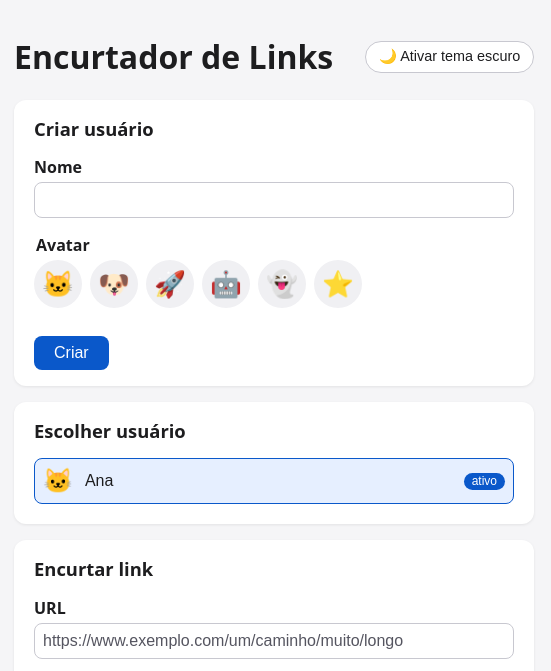
Test: tela de encurtar link › URL inválida mostra o erro com role=alert e não cria link
Check: the text "Ana" is shown, box [85,472,113,489]
Step 1. Type "www.exemplo.com" into the field labelled "URL" → point(274, 641), box [34,623,514,659]
(page scrolled)
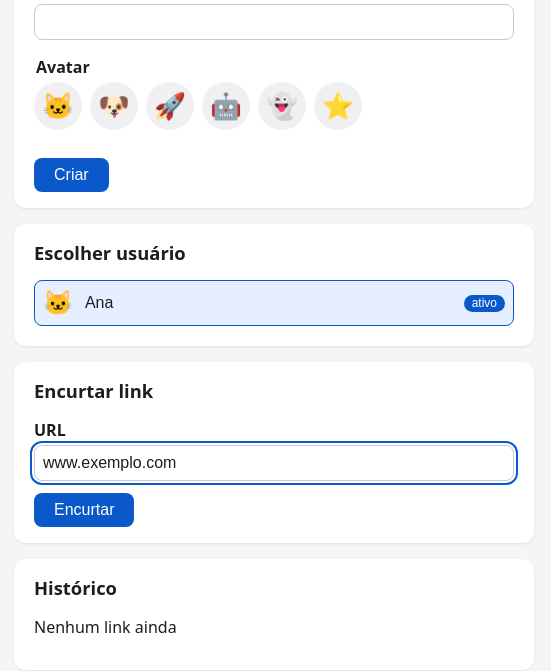
Step 2. Click the button "Encurtar" → point(84, 510), box [34,493,134,527]
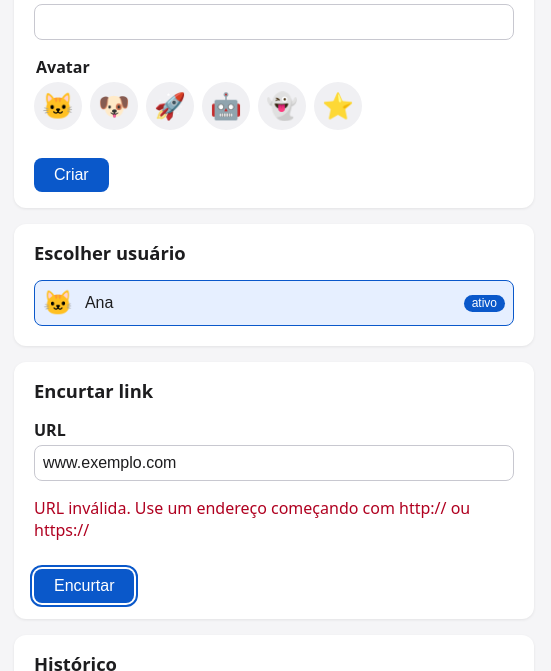
Check: the message reads "URL inválida. Use um endereço começando com http:// ou https://", box [34,497,470,541]
